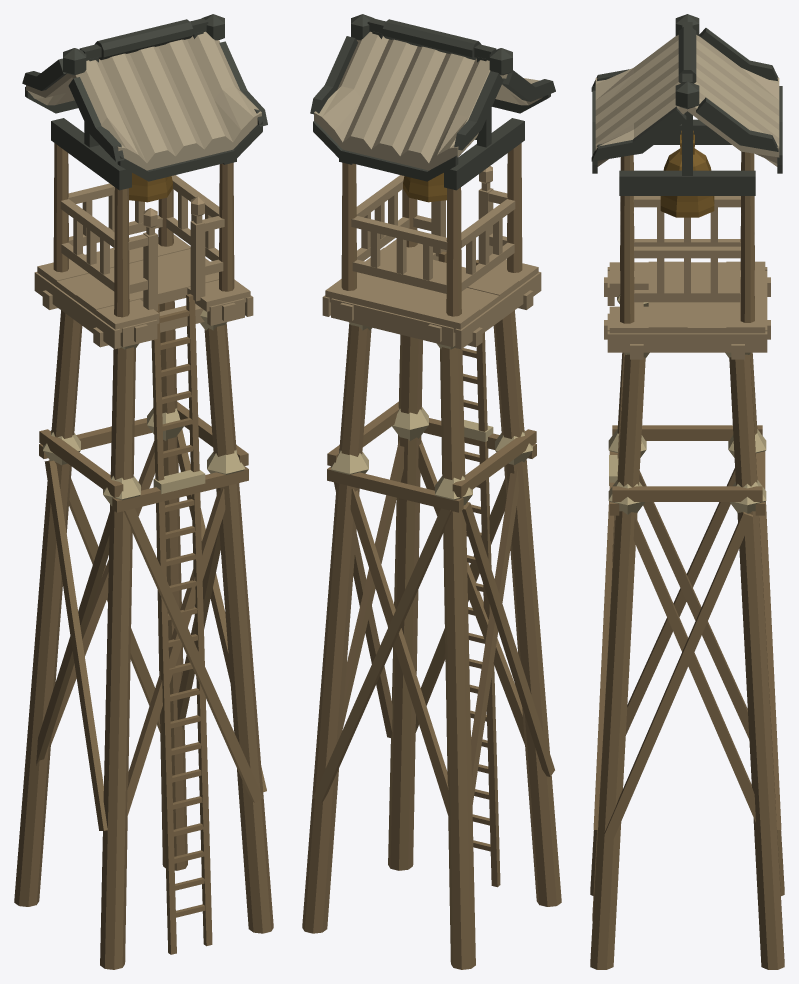
The model's file is fire-lookout-tower-714fa1.glb.
3 renders of one model, left to right at view 1: azimuth 30°, elevation 25°; view 2: azimuth 150°, elevation 25°; view 3: azimuth 270°, elevation 25°, orthographic.
Parts seen in each view (by area): view 1: tower-shell, ladder-body, bell-body; view 2: tower-shell, ladder-body, bell-body; view 3: tower-shell, bell-body, ladder-body.
Part boxes in pixels (x1,y1,x2,y2): tower-shell: [14, 14, 273, 969]; ladder-body: [151, 294, 212, 954]; bell-body: [129, 173, 172, 202]; tower-shell: [302, 14, 561, 969]; ladder-body: [438, 251, 500, 887]; bell-body: [403, 173, 446, 202]; tower-shell: [590, 14, 784, 969]; bell-body: [660, 130, 714, 217]; ladder-body: [592, 352, 624, 920].
Bounding box in the file's own units: 2 × 10 × 2.
